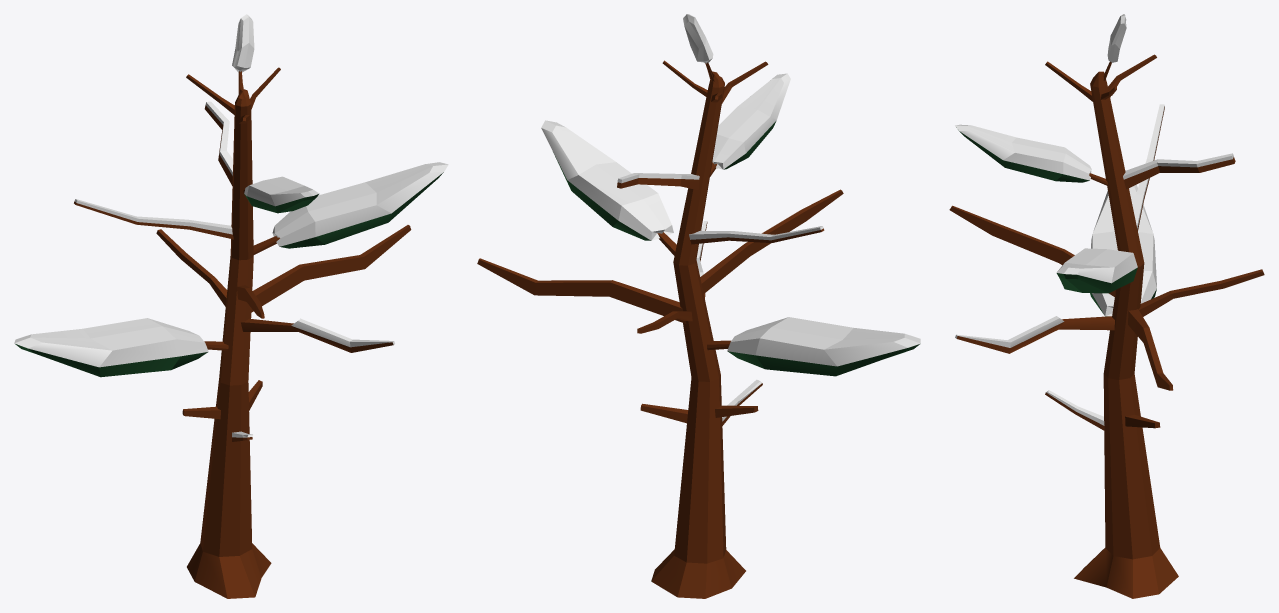
File: Winter_013.fbx
3 views of the same model, side by side, from view 1: azimuth 30°, elevation 25°; view 2: azimuth 150°, elevation 25°; view 3: azimuth 270°, elevation 25° (orthographic).
Visible parts, largest first — view 1: Winter_013; view 2: Winter_013; view 3: Winter_013.
Part boxes in pixels (left/top/right/bottom): Winter_013: left=14, top=14, right=448, bottom=598; Winter_013: left=477, top=14, right=920, bottom=598; Winter_013: left=949, top=14, right=1264, bottom=598.
Size of the model in its own units: 8 by 10.22 by 5.11.
